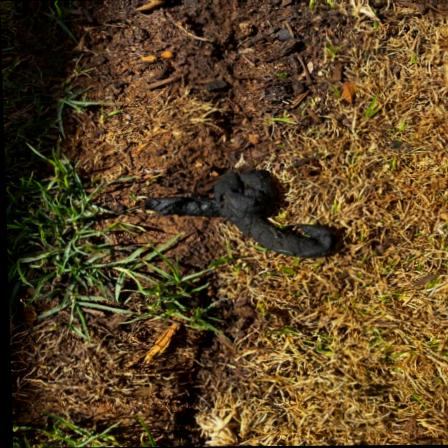dog-poop: (131, 164, 347, 263)
